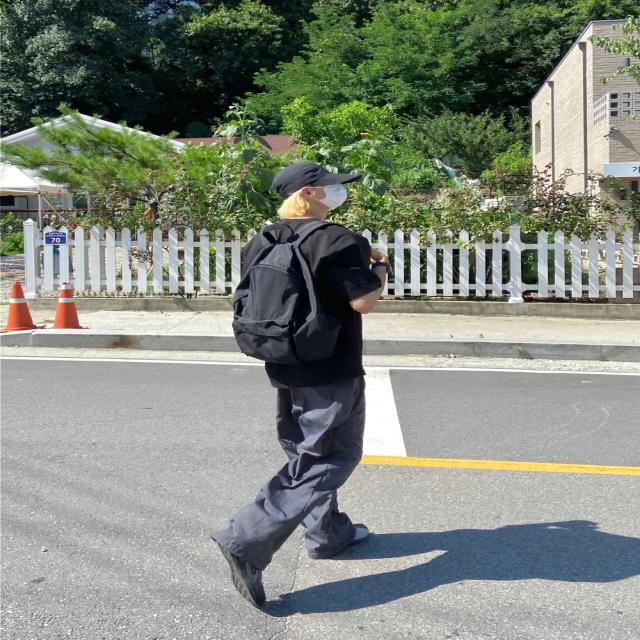backpack: (210, 225, 350, 358)
